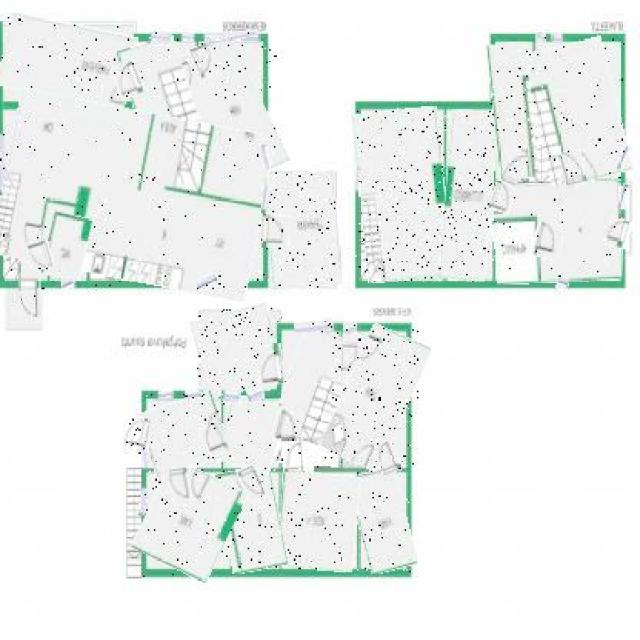door: (257, 345, 285, 386), (532, 224, 562, 258), (123, 417, 152, 451), (114, 61, 141, 97), (260, 215, 289, 248), (18, 280, 40, 323), (562, 150, 586, 188), (202, 423, 228, 457), (240, 464, 263, 502), (191, 45, 217, 77), (502, 149, 524, 186), (606, 218, 631, 250), (171, 468, 192, 506), (29, 240, 54, 269), (283, 436, 303, 472), (377, 442, 398, 476), (491, 183, 515, 212), (274, 412, 298, 440), (340, 344, 358, 370)
window: (205, 31, 257, 43), (294, 320, 334, 332), (0, 133, 8, 190), (195, 275, 220, 291), (222, 388, 240, 404), (246, 388, 265, 403), (151, 31, 169, 46), (618, 183, 628, 209), (618, 146, 628, 171), (262, 186, 270, 214), (140, 490, 148, 516), (138, 444, 148, 464), (262, 146, 269, 171), (345, 320, 357, 334), (60, 277, 74, 288), (185, 388, 200, 398), (557, 277, 568, 289), (355, 166, 360, 189), (536, 32, 546, 43), (550, 32, 562, 40), (181, 34, 194, 40), (160, 391, 172, 397)
zone: (0, 98, 268, 290), (356, 108, 450, 282), (529, 39, 625, 184), (186, 39, 277, 183), (496, 182, 622, 283), (331, 328, 418, 469), (0, 17, 135, 103), (128, 37, 205, 181), (272, 329, 350, 471), (140, 466, 238, 577), (443, 109, 495, 282), (266, 172, 339, 290), (278, 472, 358, 571), (194, 308, 281, 394), (140, 394, 228, 472), (220, 468, 283, 572), (352, 470, 412, 572), (491, 43, 535, 179), (219, 397, 283, 471), (44, 212, 90, 278), (492, 218, 540, 280)
